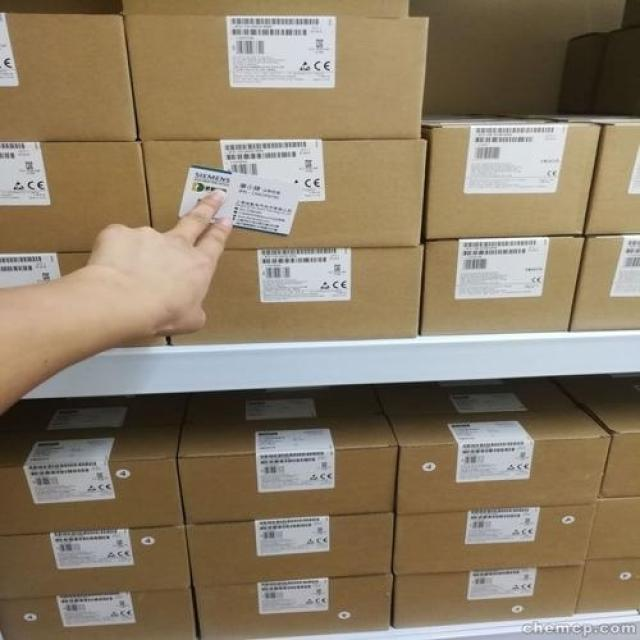box: (125, 11, 428, 140), (141, 140, 426, 249), (171, 247, 426, 346), (388, 403, 612, 514), (176, 412, 396, 523), (422, 115, 604, 241), (0, 424, 184, 534), (0, 14, 139, 143), (0, 143, 150, 256), (422, 237, 586, 335), (186, 514, 393, 586), (521, 111, 639, 233), (0, 525, 190, 600), (394, 503, 594, 571), (193, 573, 392, 639), (391, 565, 584, 629), (0, 587, 198, 639), (182, 383, 386, 427), (376, 377, 579, 415), (0, 394, 186, 433), (578, 394, 639, 499), (571, 236, 639, 330), (596, 28, 639, 115), (560, 32, 605, 114), (575, 557, 639, 614), (586, 499, 639, 560), (554, 372, 639, 404)
